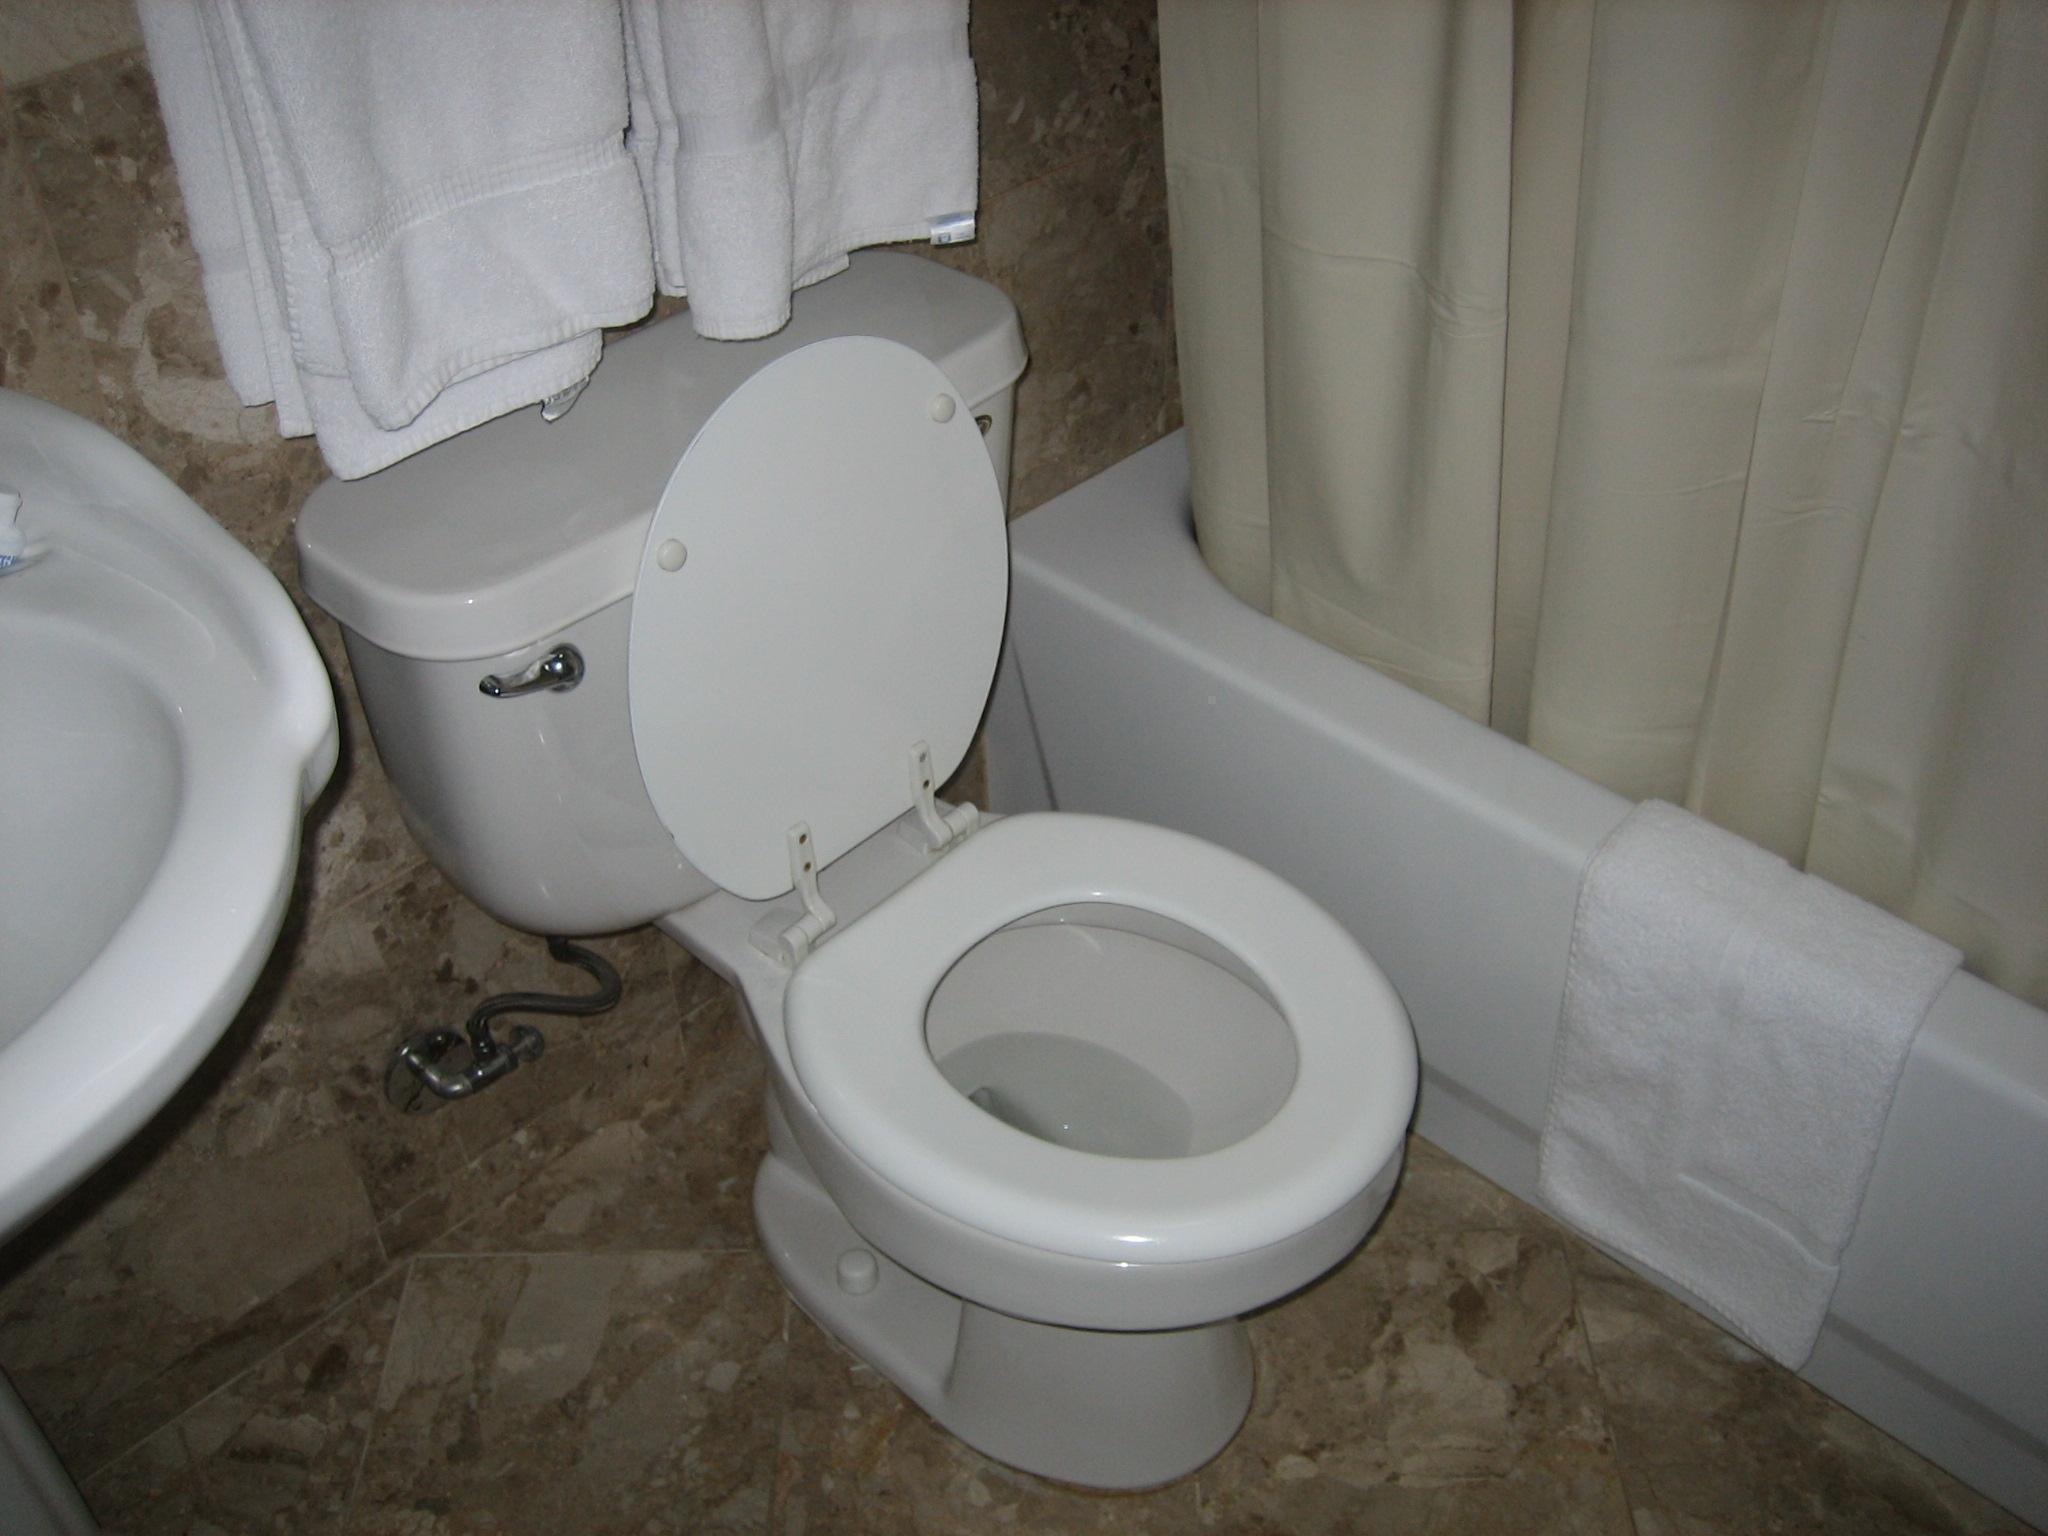Lavamanos: (10, 350, 347, 1320)
Sanitario: (342, 278, 1464, 1480)
